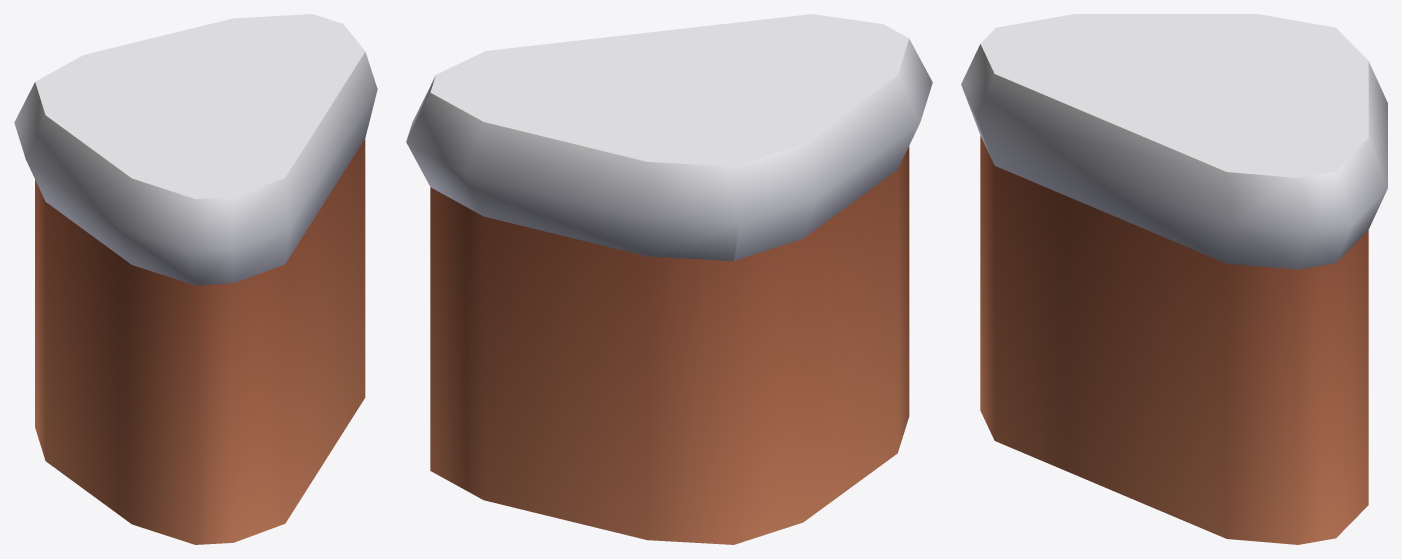
File: block-snow-corner.glb
The picture shows the model from 3 angles, left to right: view 1: azimuth 30°, elevation 25°; view 2: azimuth 150°, elevation 25°; view 3: azimuth 270°, elevation 25°; orthographic projection. The views are drawn at different scales.
Visible parts, largest first — view 1: block-snow-corner; view 2: block-snow-corner; view 3: block-snow-corner.
Boxes of the visible parts, x1,y1,x2,y2 form: block-snow-corner: (14,14,377,544); block-snow-corner: (406,14,932,544); block-snow-corner: (961,14,1387,544).
Size of the model in its own units: 1.05 by 1 by 1.05.
1 material, 1 textured.
